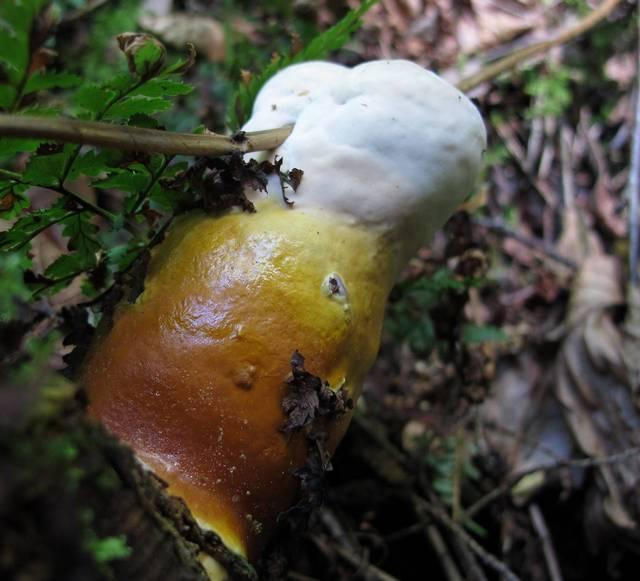poisonous_mushroom: (73, 55, 488, 579)
